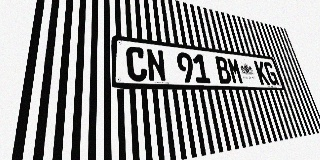1: (191, 53, 211, 83)
9: (176, 52, 196, 83)
B: (214, 56, 232, 84)
C: (126, 46, 148, 82)
G: (263, 61, 279, 85)
K: (254, 60, 270, 85)
M: (226, 57, 244, 84)
N: (146, 48, 167, 82)
